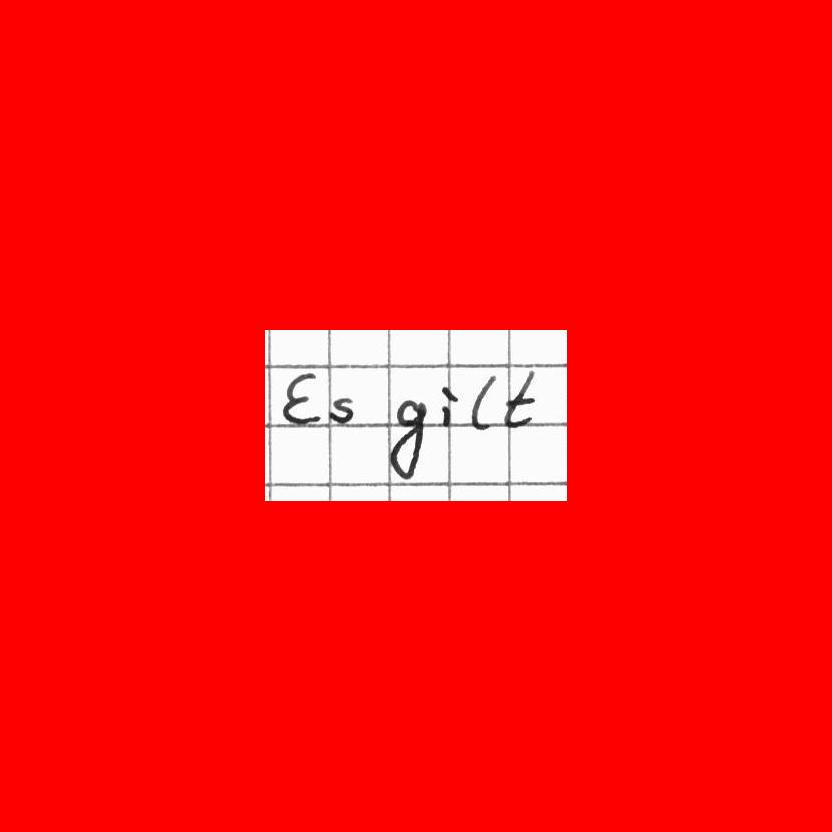Char: (386, 394, 430, 482), (279, 369, 323, 430), (502, 366, 543, 431), (468, 370, 499, 433), (438, 383, 461, 429), (327, 394, 356, 425)
